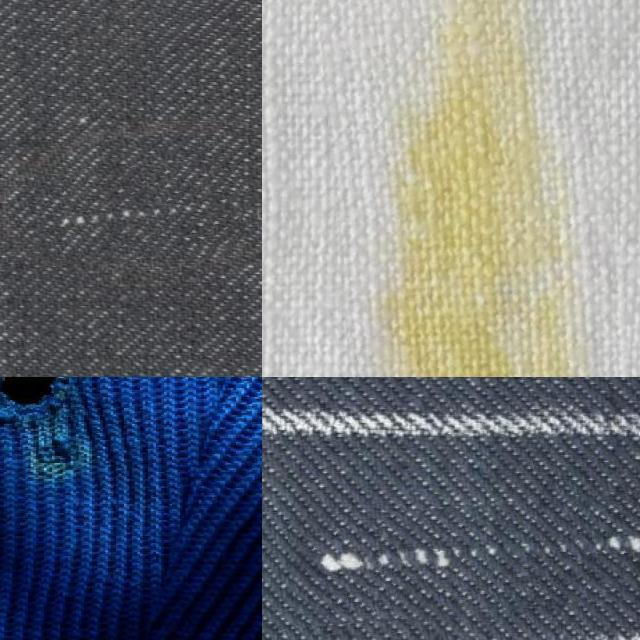Thread_other: (330, 0, 637, 377)
other: (0, 377, 87, 423)
stains: (289, 493, 640, 618), (36, 160, 244, 262)
